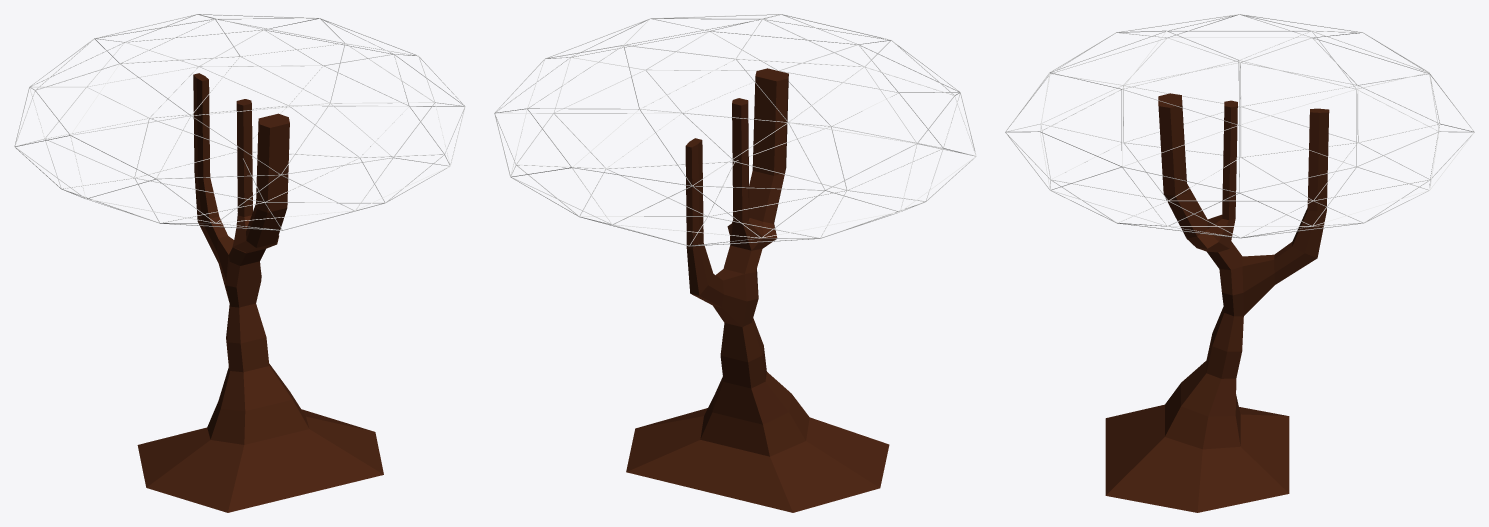
The model's file is tree6.glb.
3 views of the same model, side by side, from view 1: azimuth 30°, elevation 25°; view 2: azimuth 150°, elevation 25°; view 3: azimuth 270°, elevation 25° (orthographic). The views are drawn at different scales.
Parts seen in each view (by area): view 1: Cube.001, Icosphere; view 2: Cube.001, Icosphere; view 3: Cube.001, Icosphere.
Boxes of the visible parts, left/top/right/bottom form: Cube.001: left=137, top=73, right=383, bottom=512; Icosphere: left=14, top=14, right=465, bottom=230; Cube.001: left=626, top=68, right=889, bottom=512; Icosphere: left=494, top=14, right=976, bottom=246; Cube.001: left=1105, top=93, right=1329, bottom=512; Icosphere: left=1005, top=14, right=1474, bottom=238.
Size of the model in its own units: 1.87 by 1.83 by 1.96.
